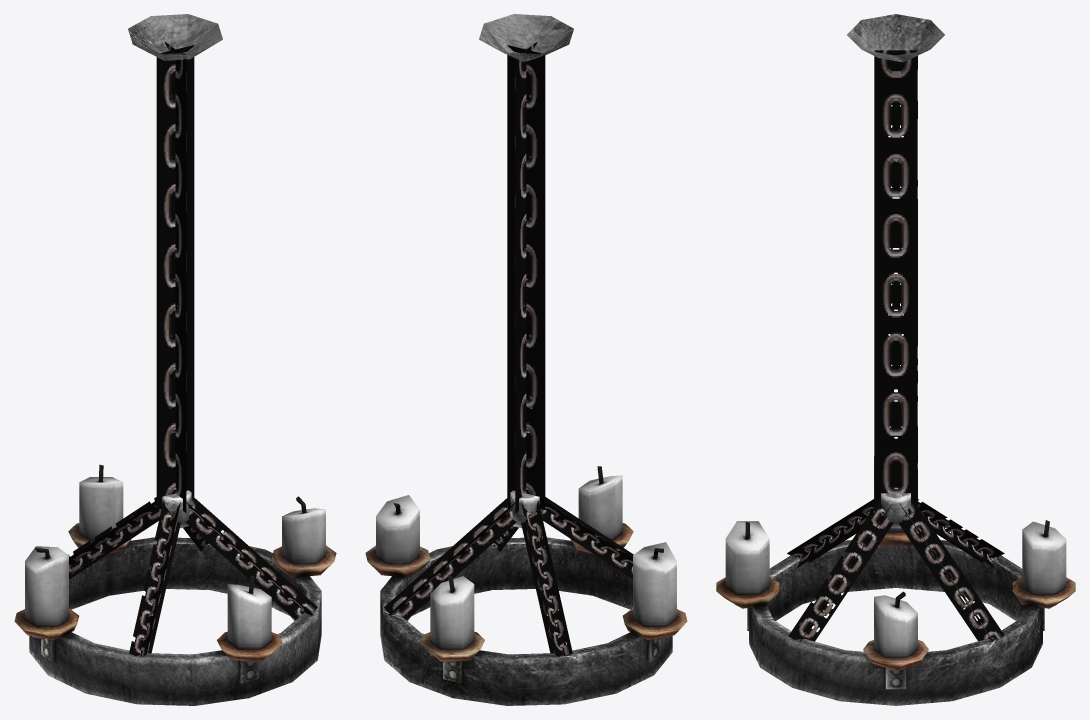
The model's file is chandelier_simple_short.dae.
3 renders of one model, left to right at view 1: azimuth 30°, elevation 25°; view 2: azimuth 150°, elevation 25°; view 3: azimuth 270°, elevation 25°, orthographic.
Visible parts, largest first — view 1: polySurface41, polySurface40, polySurface3; view 2: polySurface41, polySurface40, polySurface3; view 3: polySurface41, polySurface40, polySurface3.
Boxes of the visible parts, <box> form: polySurface41: <box>14,464,336,705</box>; polySurface40: <box>156,42,194,512</box>; polySurface3: <box>128,14,222,60</box>; polySurface41: <box>365,466,687,705</box>; polySurface40: <box>507,42,545,513</box>; polySurface3: <box>479,14,573,62</box>; polySurface41: <box>716,456,1075,705</box>; polySurface40: <box>874,50,917,505</box>; polySurface3: <box>847,14,944,62</box>.
Bounding box in the file's own units: 1.22 × 1.22 × 2.28.
Materials: 1 (1 with a texture image).
